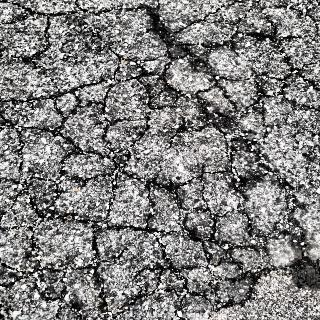crack: (7, 6, 314, 314)
